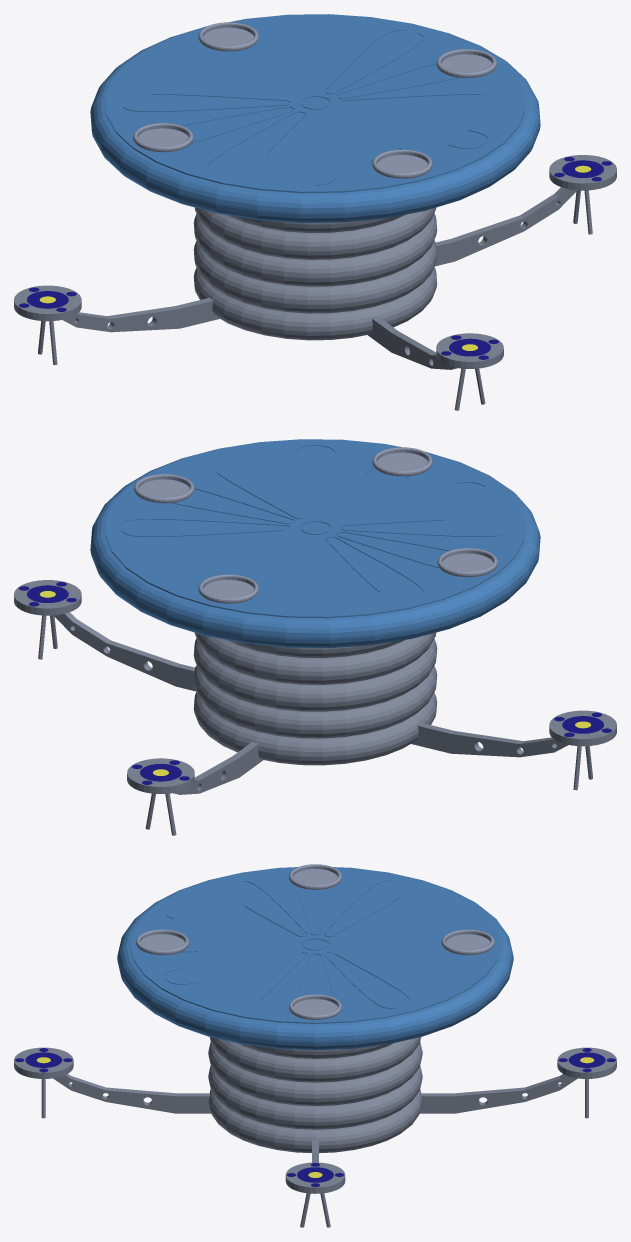
The model's file is Table.fbx.
3 views of the same model, one above another, from view 1: azimuth 30°, elevation 25°; view 2: azimuth 150°, elevation 25°; view 3: azimuth 270°, elevation 25° (orthographic). The views are drawn at different scales.
Visible parts, largest first — view 1: table, table.chair.base, table.chair.004, table.chair.001, table.chair.002, table.plate.004, table.plate.002, table.plate.003, table.plate.001; view 2: table, table.chair.base, table.chair.003, table.chair.004, table.chair.002, table.plate.004, table.plate.002, table.plate.003, table.plate.001; view 3: table, table.chair.base, table.chair.002, table.chair.001, table.chair.003, table.plate.004, table.plate.003, table.plate.001, table.plate.002.
Part boxes in pixels (box(x1,y1,x2,y2)): table: box(90, 14, 540, 340); table.chair.base: box(62, 187, 577, 369); table.chair.004: box(14, 285, 81, 365); table.chair.001: box(436, 333, 503, 410); table.chair.002: box(549, 155, 616, 234); table.plate.004: box(198, 22, 258, 51); table.plate.002: box(372, 149, 432, 178); table.plate.003: box(133, 123, 193, 152); table.plate.001: box(436, 49, 496, 78); table: box(90, 439, 540, 765); table.chair.base: box(53, 612, 568, 794); table.chair.003: box(127, 758, 194, 835); table.chair.004: box(549, 710, 616, 790); table.chair.002: box(14, 580, 81, 659); table.plate.004: box(198, 574, 258, 603); table.plate.002: box(372, 447, 432, 476); table.plate.003: box(437, 548, 497, 577); table.plate.001: box(134, 474, 194, 503); table: box(117, 867, 513, 1153); table.chair.base: box(53, 1074, 577, 1162); table.chair.002: box(285, 1162, 345, 1227); table.chair.001: box(14, 1047, 73, 1118); table.chair.003: box(557, 1047, 616, 1118); table.plate.004: box(441, 929, 494, 955); table.plate.003: box(289, 864, 341, 889); table.plate.001: box(289, 994, 341, 1019); table.plate.002: box(136, 929, 188, 955).
Bounding box in the file's own units: 480 × 151 × 480.
